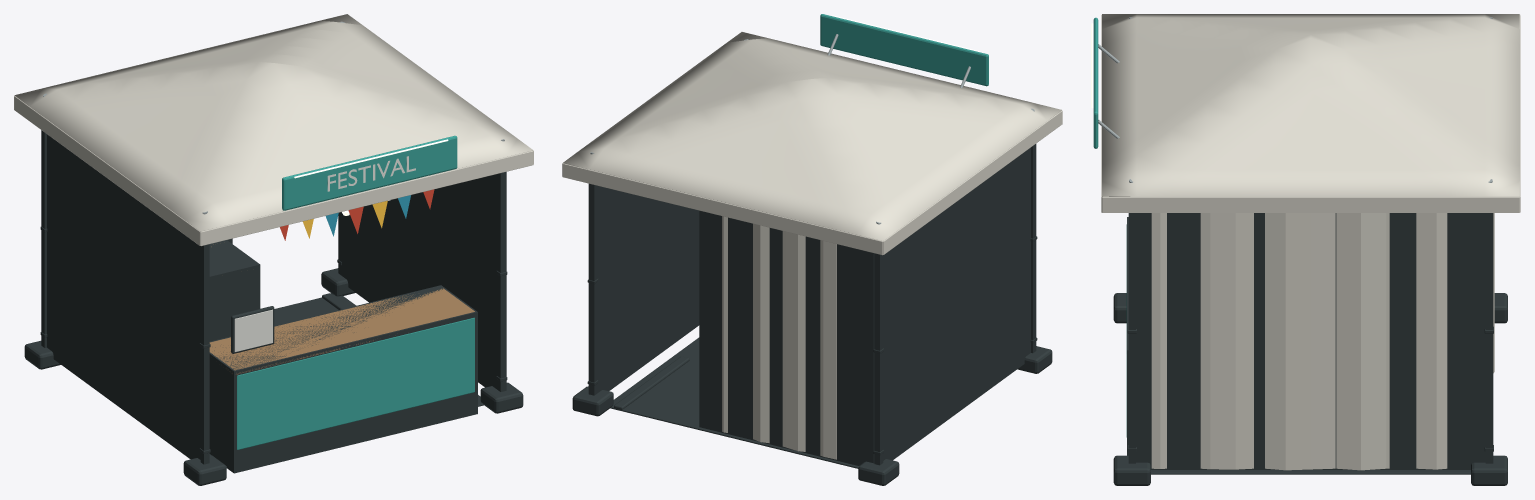
File: SIMUS_Festival_Booth_Base.fbx
3 views of the same model, side by side, from view 1: azimuth 30°, elevation 25°; view 2: azimuth 150°, elevation 25°; view 3: azimuth 270°, elevation 25° (orthographic). The views are drawn at different scales.
Visible parts, largest first — view 1: FESTIVAL_BOOTH_CANOPY_FABRIC, COL_Base_PANEL_LEFT, FESTIVAL_BOOTH_COUNTER_FASCIA, COL_Base_PANEL_RIGHT, COL_Base_COUNTER, FESTIVAL_BOOTH_COUNTER_TOP, Main_Sign_Board, Canopy_Hem_0_-1, COL_Base_TABLE, FESTIVAL_BOOTH_WEIGHTS_BLOCKS, Canopy_Hem_1_-1, COL_Base_POST_-1.4_-1.3 (+6 smaller); view 2: FESTIVAL_BOOTH_CANOPY_FABRIC, COL_Base_PANEL_LEFT, COL_Base_PANEL_BACK, COL_Base_PANEL_RIGHT, FESTIVAL_BOOTH_PANEL_BACK_FABRIC, Main_Sign_Board, Canopy_Hem_0_1, FESTIVAL_BOOTH_FLOOR_MAT_MESH, Canopy_Hem_1_-1, FESTIVAL_BOOTH_WEIGHTS_BLOCKS, COL_Base_POST_-1.4_1.3, COL_Base_POST_1.4_1.3 (+2 smaller); view 3: FESTIVAL_BOOTH_CANOPY_FABRIC, FESTIVAL_BOOTH_PANEL_RIGHT_FABRIC, COL_Base_PANEL_RIGHT, Canopy_Hem_1_1, FESTIVAL_BOOTH_WEIGHTS_BLOCKS, COL_Base_POST_1.4_1.3, COL_Base_POST_1.4_-1.3, FESTIVAL_BOOTH_FLOOR_MAT_MESH, Main_Sign_Board, COL_Base_COUNTER.
Boxes of the visible parts, bbox=[...] form: FESTIVAL_BOOTH_CANOPY_FABRIC: bbox=[14, 14, 533, 231]; COL_Base_PANEL_LEFT: bbox=[47, 134, 200, 459]; FESTIVAL_BOOTH_COUNTER_FASCIA: bbox=[237, 317, 474, 449]; COL_Base_PANEL_RIGHT: bbox=[341, 174, 497, 389]; COL_Base_COUNTER: bbox=[209, 285, 477, 473]; FESTIVAL_BOOTH_COUNTER_TOP: bbox=[209, 288, 474, 374]; Main_Sign_Board: bbox=[282, 135, 457, 210]; Canopy_Hem_0_-1: bbox=[200, 151, 533, 246]; COL_Base_TABLE: bbox=[209, 240, 260, 341]; FESTIVAL_BOOTH_WEIGHTS_BLOCKS: bbox=[24, 268, 523, 485]; Canopy_Hem_1_-1: bbox=[14, 96, 200, 245]; COL_Base_POST_-1.4_-1.3: bbox=[200, 244, 209, 464]; FESTIVAL_BOOTH_CANOPY_FABRIC: bbox=[563, 32, 1061, 241]; COL_Base_PANEL_LEFT: bbox=[883, 147, 1030, 460]; COL_Base_PANEL_BACK: bbox=[699, 210, 874, 465]; COL_Base_PANEL_RIGHT: bbox=[597, 186, 699, 392]; FESTIVAL_BOOTH_PANEL_BACK_FABRIC: bbox=[722, 216, 836, 459]; Main_Sign_Board: bbox=[820, 14, 988, 86]; Canopy_Hem_0_1: bbox=[562, 163, 882, 255]; FESTIVAL_BOOTH_FLOOR_MAT_MESH: bbox=[610, 337, 858, 468]; Canopy_Hem_1_-1: bbox=[883, 110, 1062, 254]; FESTIVAL_BOOTH_WEIGHTS_BLOCKS: bbox=[572, 346, 1052, 485]; COL_Base_POST_-1.4_1.3: bbox=[874, 253, 883, 465]; COL_Base_POST_1.4_1.3: bbox=[588, 183, 597, 395]; FESTIVAL_BOOTH_CANOPY_FABRIC: bbox=[1102, 14, 1519, 196]; FESTIVAL_BOOTH_PANEL_RIGHT_FABRIC: bbox=[1151, 213, 1447, 470]; COL_Base_PANEL_RIGHT: bbox=[1136, 213, 1485, 469]; Canopy_Hem_1_1: bbox=[1102, 196, 1519, 212]; FESTIVAL_BOOTH_WEIGHTS_BLOCKS: bbox=[1113, 293, 1507, 485]; COL_Base_POST_1.4_1.3: bbox=[1485, 213, 1493, 463]; COL_Base_POST_1.4_-1.3: bbox=[1128, 213, 1135, 463]; FESTIVAL_BOOTH_FLOOR_MAT_MESH: bbox=[1151, 470, 1470, 474]; Main_Sign_Board: bbox=[1093, 17, 1098, 148]; COL_Base_COUNTER: bbox=[1127, 217, 1128, 455].
Bounding box in the file's own units: 315 × 289 × 312.
